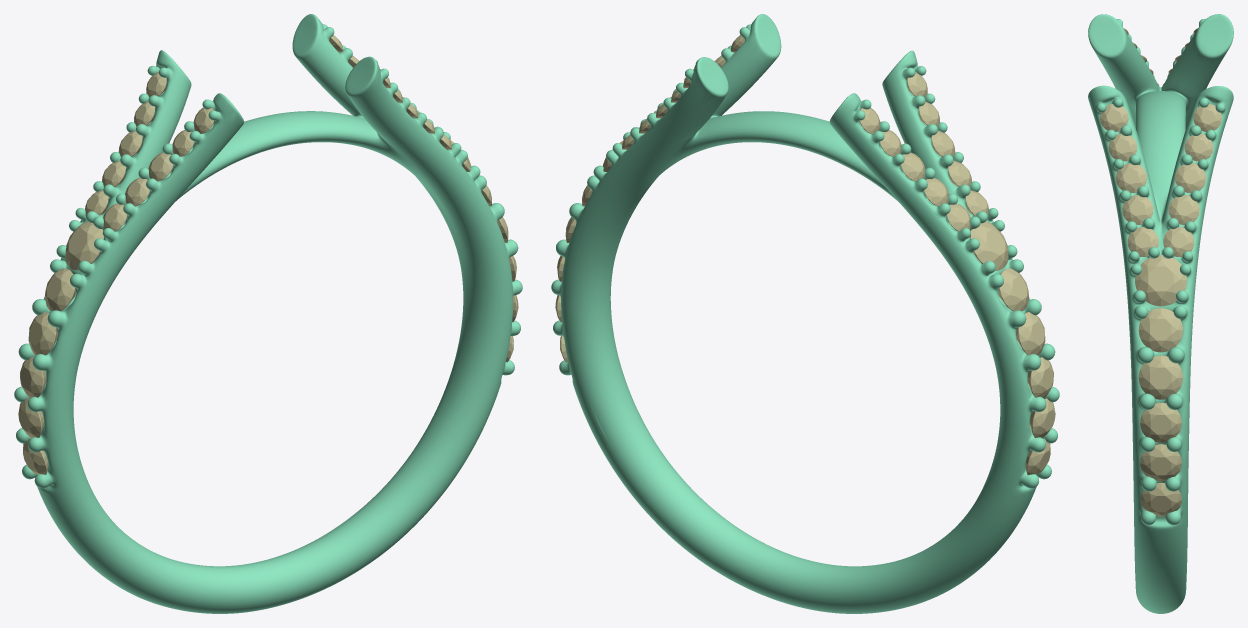
3 renders of one model, left to right at view 1: azimuth 30°, elevation 25°; view 2: azimuth 150°, elevation 25°; view 3: azimuth 270°, elevation 25°, orthographic. The views are drawn at different scales.
Parts seen in each view (by area): view 1: Metal02, Diamond_Gem.025, Diamond_Gem.031, Diamond_Gem.024, Diamond_Gem.023; view 2: Metal02, Diamond_Gem.025, Diamond_Gem.031, Diamond_Gem.024, Diamond_Gem.023; view 3: Metal02, Diamond_Gem.006, Diamond_Gem, Diamond_Gem.007, Diamond_Gem.008, Diamond_Gem.009, Diamond_Gem.010, Diamond_Gem.014, Diamond_Gem.002, Diamond_Gem.003, Diamond_Gem.013, Diamond_Gem.015 (+5 smaller).
Boxes of the visible parts, left/top/right/bottom form: Metal02: left=14, top=14, right=522, bottom=613; Diamond_Gem.025: left=65, top=221, right=103, bottom=270; Diamond_Gem.031: left=45, top=268, right=75, bottom=311; Diamond_Gem.024: left=28, top=312, right=57, bottom=355; Diamond_Gem.023: left=20, top=357, right=46, bottom=398; Metal02: left=551, top=14, right=1059, bottom=613; Diamond_Gem.025: left=970, top=221, right=1008, bottom=270; Diamond_Gem.031: left=998, top=268, right=1028, bottom=311; Diamond_Gem.024: left=1016, top=312, right=1045, bottom=355; Diamond_Gem.023: left=1027, top=357, right=1053, bottom=398; Metal02: left=1088, top=14, right=1233, bottom=613; Diamond_Gem.006: left=1135, top=255, right=1186, bottom=306; Diamond_Gem: left=1138, top=308, right=1182, bottom=352; Diamond_Gem.007: left=1138, top=355, right=1182, bottom=399; Diamond_Gem.008: left=1140, top=402, right=1181, bottom=442; Diamond_Gem.009: left=1140, top=444, right=1181, bottom=481; Diamond_Gem.010: left=1140, top=482, right=1181, bottom=516; Diamond_Gem.014: left=1175, top=163, right=1206, bottom=193; Diamond_Gem.002: left=1115, top=163, right=1146, bottom=193; Diamond_Gem.003: left=1122, top=195, right=1153, bottom=224; Diamond_Gem.013: left=1168, top=195, right=1199, bottom=224; Diamond_Gem.015: left=1163, top=227, right=1194, bottom=256.
Bounding box in the file's own units: 21.37 × 22.81 × 5.6.
